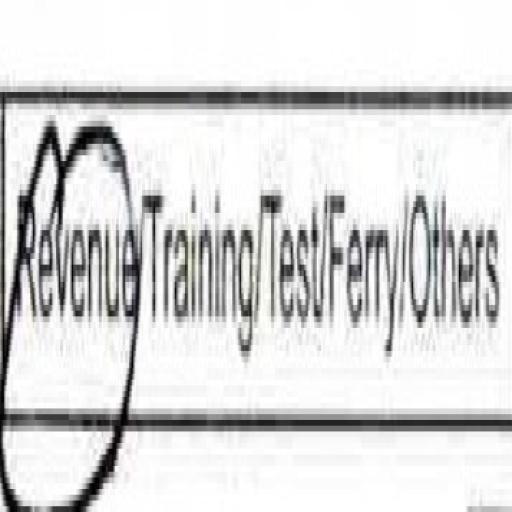check: (2, 37, 142, 512)
